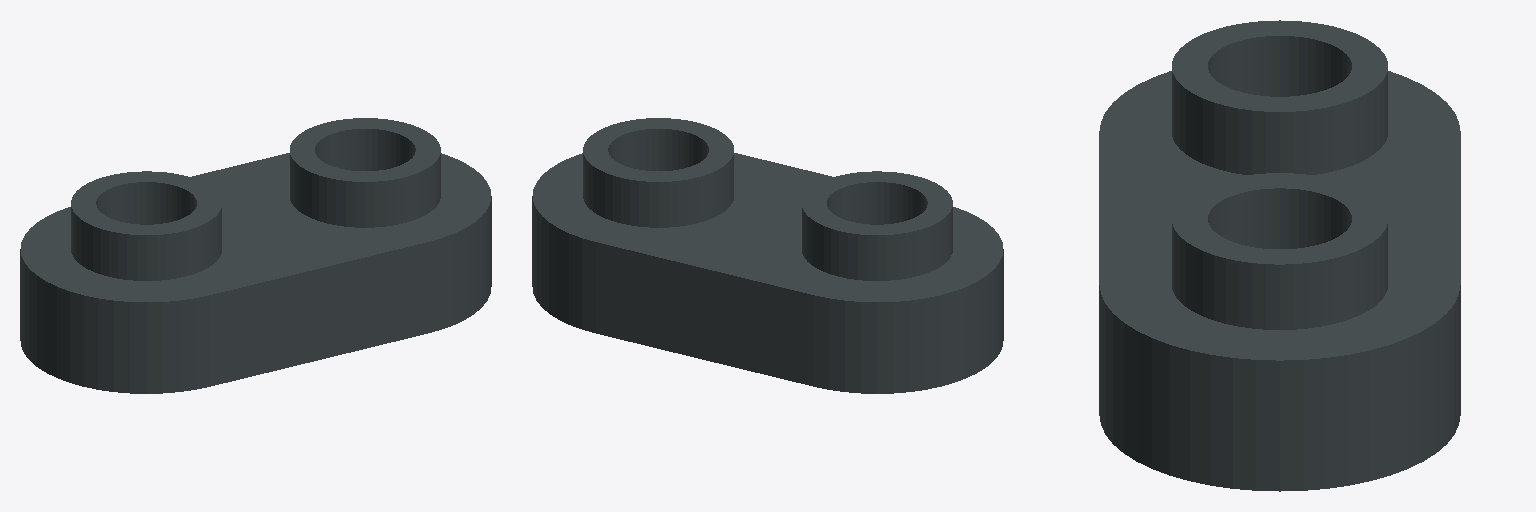
URDF robot description (35480__dark_bluish_gray):
<?xml version="1.0"?>
<robot name="35480__dark_bluish_gray">
  <link name="35480__dark_bluish_gray">
    <inertial>
      <origin xyz="0.000000 0.000000 -0.000979" rpy="0 0 0"/>
      <mass value="0.000524"/>
      <inertia ixx="3.191140984e-09" ixy="-2.827277484e-26" ixz="-1.413638742e-25" iyy="9.817876069e-09" iyz="1.941289219e-26" izz="1.119755919e-08"/>
    </inertial>
    <visual>
      <geometry>
        <mesh filename="../meshes/visual/35480.obj" scale="1 1 1"/>
      </geometry>
      <material name="35480__dark_bluish_gray_color">
        <color rgba="0.320 0.350 0.360 1.000"/>
      </material>
    </visual>
    <collision>
      <geometry>
        <mesh filename="../meshes/collision/35480_hull.obj" scale="1 1 1"/>
      </geometry>
    </collision>
  </link>
</robot>

--- What the picture shows (computed from the rendered views, not written in the file) ---
The picture shows the robot from 3 angles, left to right: view 1: azimuth 30°, elevation 25°; view 2: azimuth 150°, elevation 25°; view 3: azimuth 270°, elevation 25°; orthographic projection.
Robot: 35480__dark_bluish_gray — 1 links, 0 joints (none); root link 35480__dark_bluish_gray; default pose: all joints at 0.
Visible links, largest first — view 1: 35480__dark_bluish_gray; view 2: 35480__dark_bluish_gray; view 3: 35480__dark_bluish_gray.
Boxes of the visible links, left/top/right/bottom form: 35480__dark_bluish_gray: left=20, top=118, right=491, bottom=393; 35480__dark_bluish_gray: left=532, top=118, right=1003, bottom=393; 35480__dark_bluish_gray: left=1099, top=20, right=1460, bottom=491.
Bounding box of the posed robot: 0.016 × 0.008 × 0.0048 m (x, y, z).
1 mesh visuals loaded from 1 distinct referenced files (1 OBJ).
